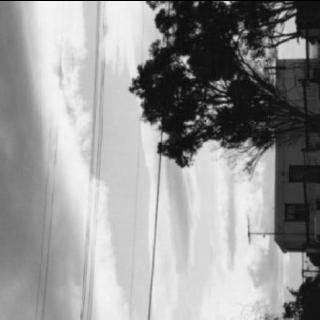Stratocumulus: (1, 0, 260, 320)
